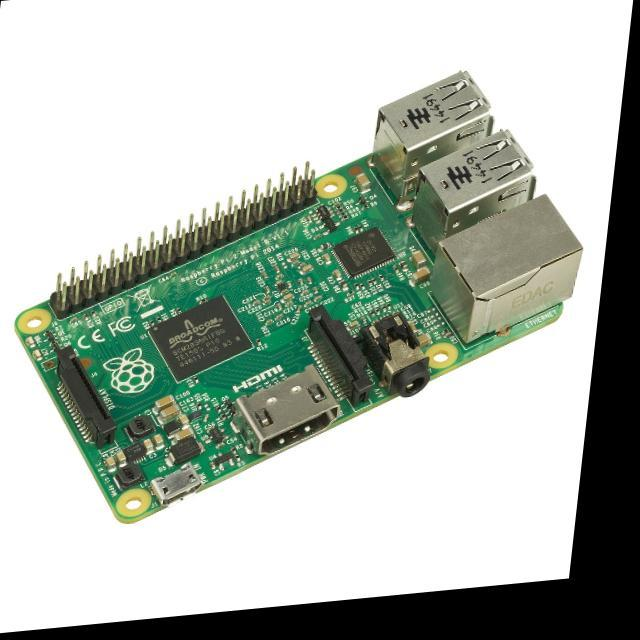Raspberry-Pi-2-B: (16, 72, 583, 523)
